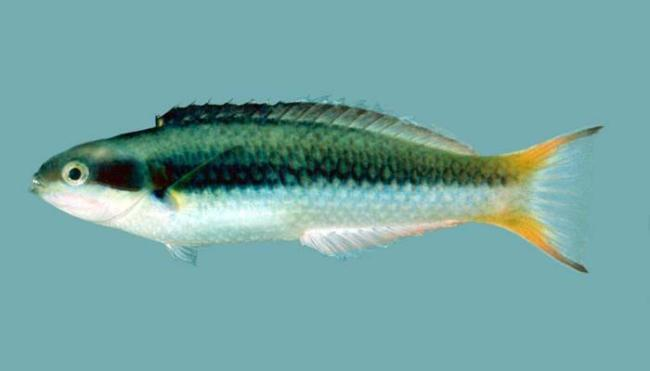fish: (28, 94, 604, 276)
